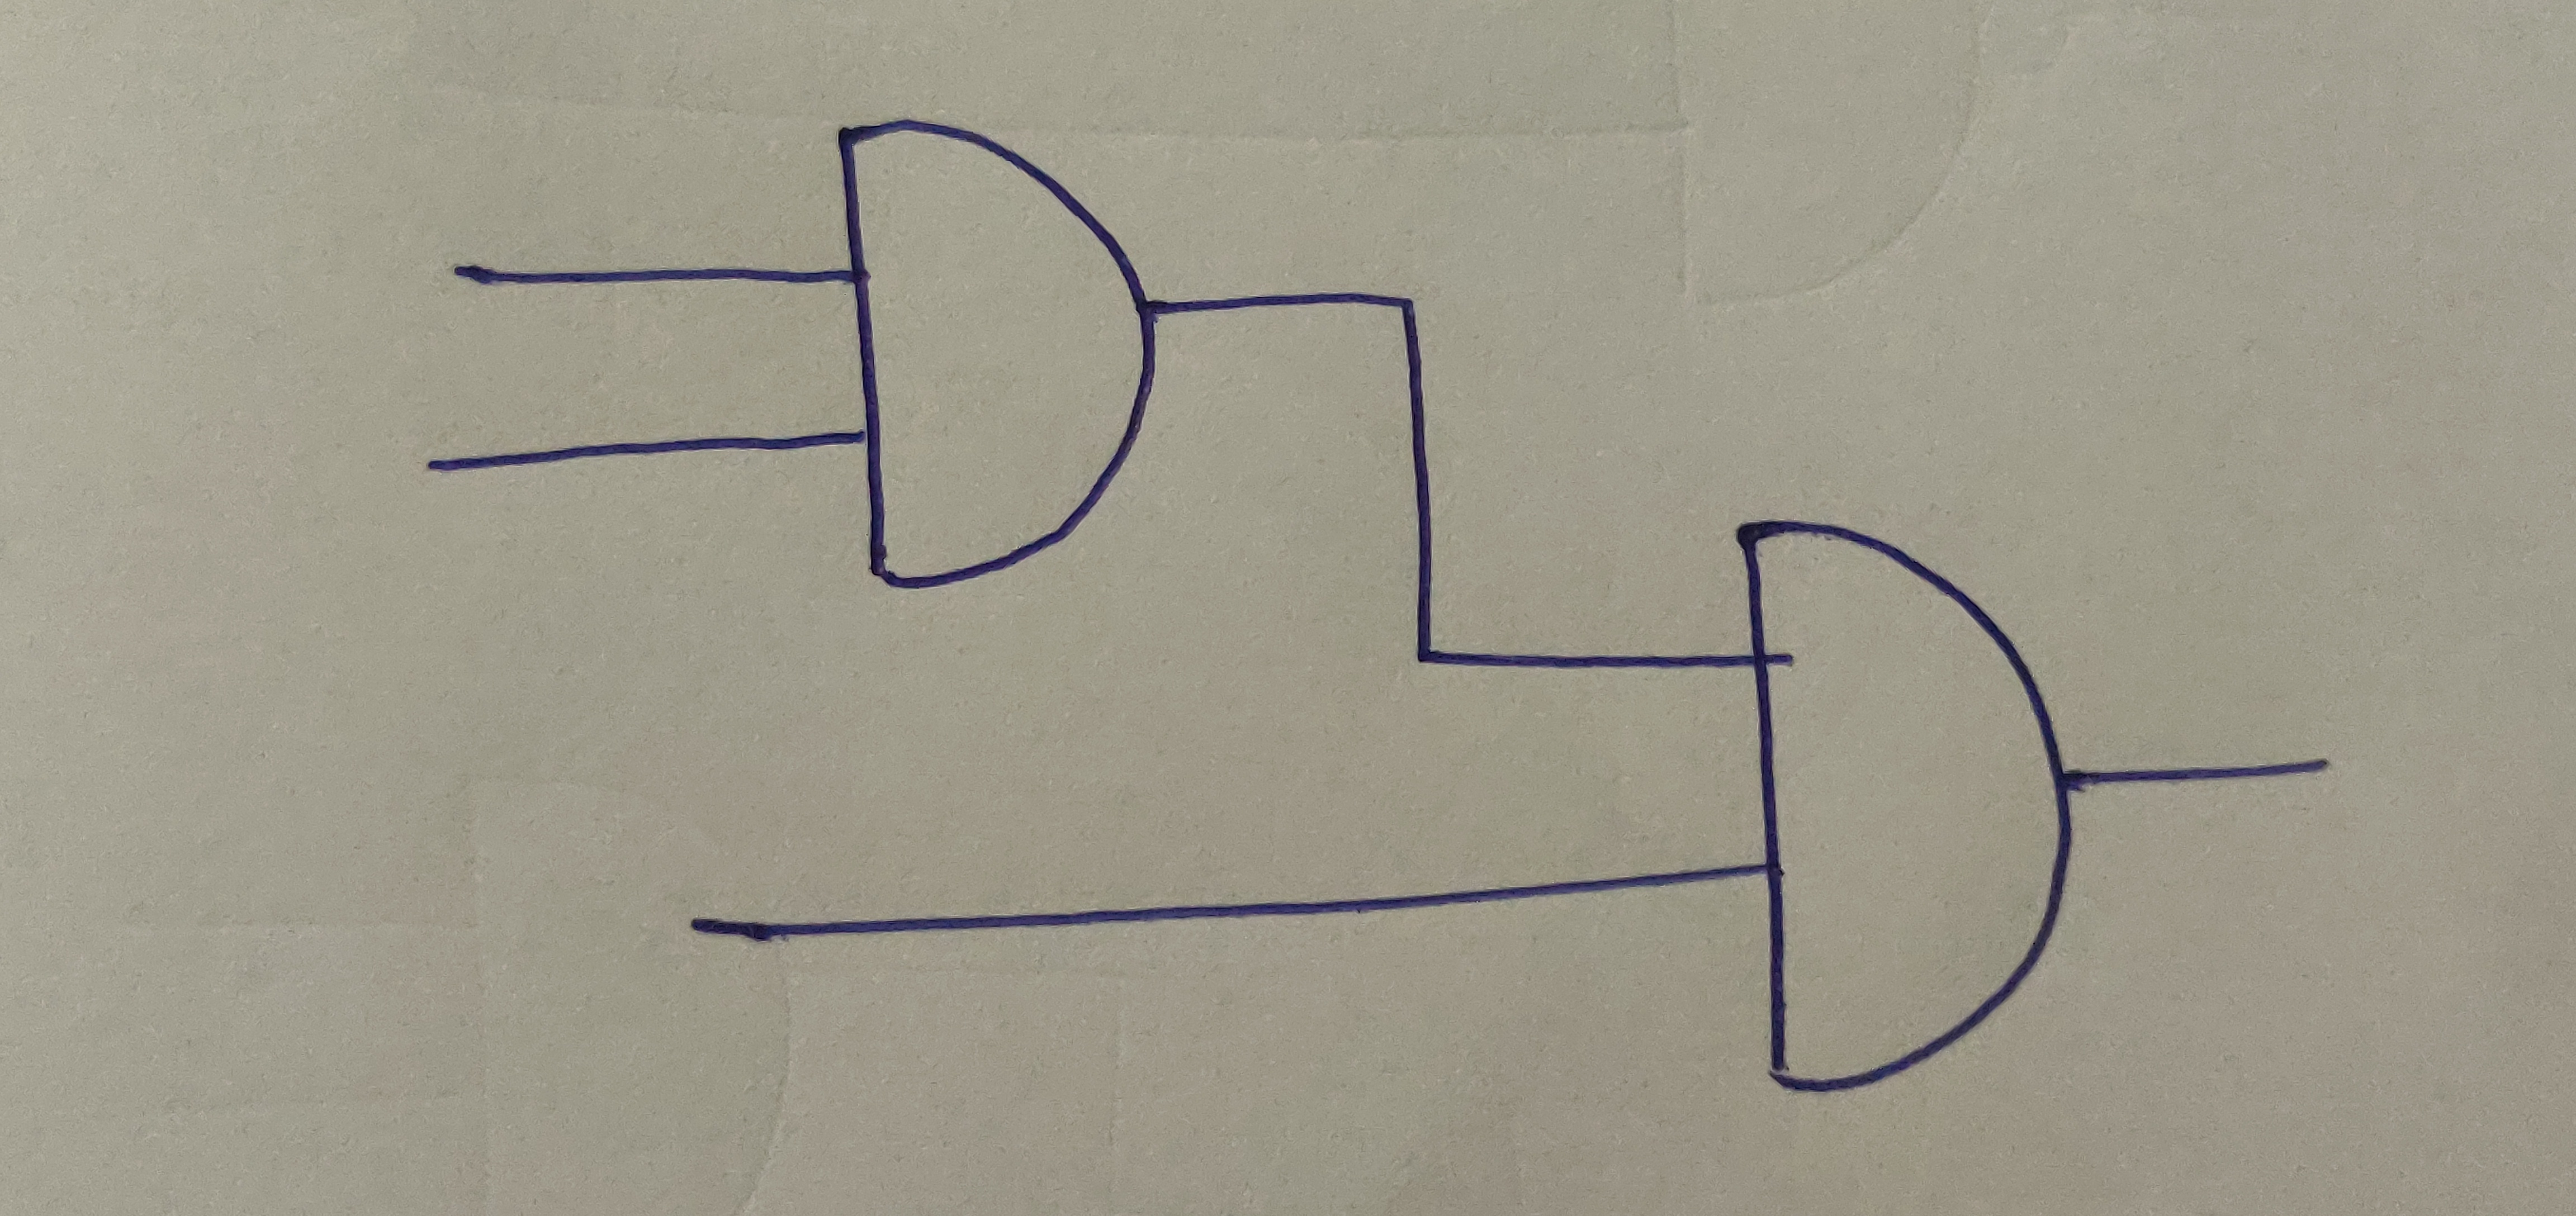and: (1737, 513, 2072, 1091), (830, 110, 1158, 590)
